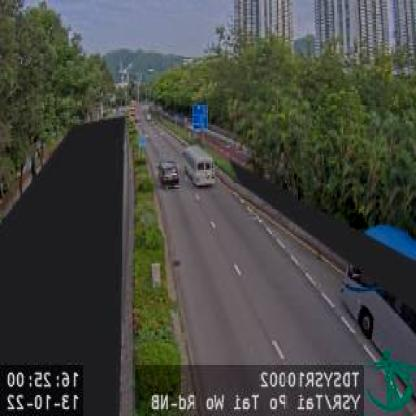Bus: (338, 222, 416, 405), (184, 144, 216, 186)
Car: (158, 159, 178, 184)
